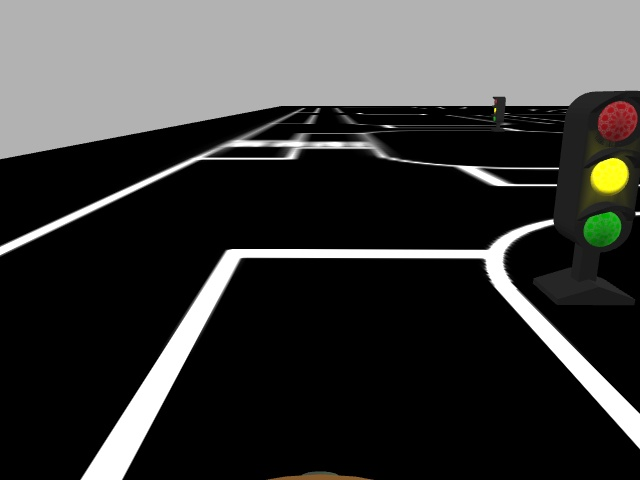yellow_light: (568, 90, 640, 255)
